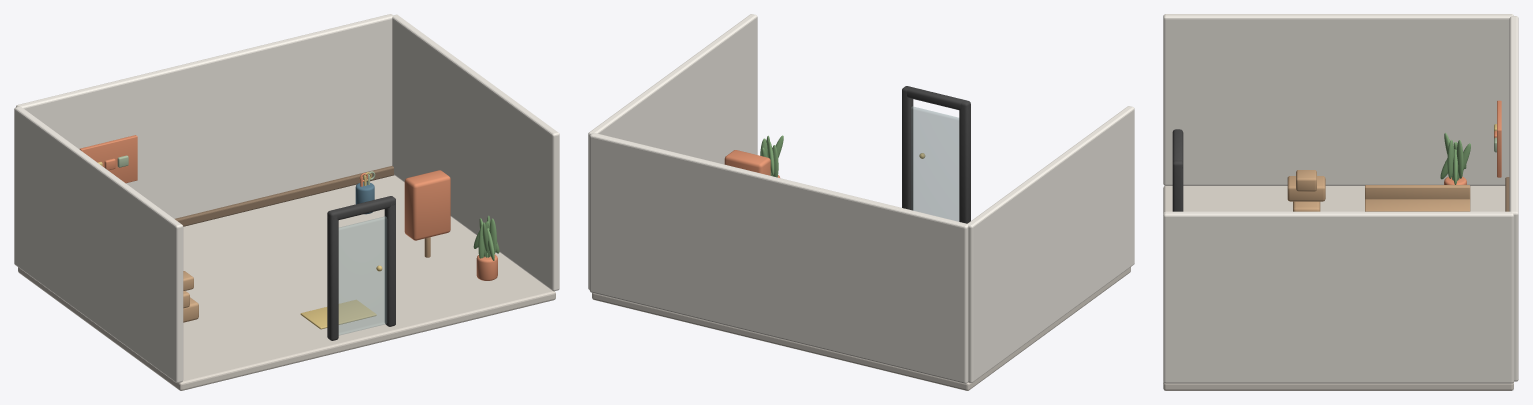
File: room-entrance.glb
The picture shows the model from 3 angles, left to right: view 1: azimuth 30°, elevation 25°; view 2: azimuth 150°, elevation 25°; view 3: azimuth 270°, elevation 25°; orthographic projection. The views are drawn at different scales.
Visible parts, largest first — view 1: room-entrance_back, room-entrance_floor, room-entrance_left, room-entrance_right, door-glass, panel.006, room-entrance_trim, frame-left.001, panel.005, frame-right.001, rug.002, frame-top.002 (+1 smaller); view 2: room-entrance_back, room-entrance_left, room-entrance_right, door-glass, room-entrance_floor, frame-left.001, frame-right.001, panel.006, frame-top.002; view 3: room-entrance_right, room-entrance_left, room-entrance_floor, room-entrance_back, back.004, seat.007, parcel-1, frame-right.001, parcel-2, frame-top.002, panel.005.
Part boxes in pixels (x1=…): room-entrance_back: x1=16, y1=14, x2=392, y2=218; room-entrance_floor: x1=18, y1=175, x2=555, y2=390; room-entrance_left: x1=14, y1=106, x2=183, y2=383; room-entrance_right: x1=392, y1=14, x2=559, y2=291; door-glass: x1=338, y1=216, x2=386, y2=335; panel.006: x1=404, y1=170, x2=450, y2=240; room-entrance_trim: x1=175, y1=166, x2=394, y2=226; frame-left.001: x1=327, y1=210, x2=338, y2=340; panel.005: x1=79, y1=135, x2=137, y2=183; frame-right.001: x1=384, y1=196, x2=395, y2=326; rug.002: x1=300, y1=299, x2=376, y2=329; frame-top.002: x1=327, y1=196, x2=395, y2=219; room-entrance_back: x1=589, y1=133, x2=968, y2=383; room-entrance_left: x1=967, y1=106, x2=1134, y2=382; room-entrance_right: x1=588, y1=14, x2=757, y2=289; door-glass: x1=911, y1=106, x2=959, y2=221; room-entrance_floor: x1=592, y1=267, x2=1130, y2=390; frame-left.001: x1=959, y1=101, x2=970, y2=223; frame-right.001: x1=902, y1=86, x2=913, y2=210; panel.006: x1=724, y1=150, x2=770, y2=175; frame-top.002: x1=902, y1=86, x2=970, y2=110; room-entrance_right: x1=1163, y1=211, x2=1513, y2=383; room-entrance_left: x1=1163, y1=14, x2=1513, y2=185; room-entrance_floor: x1=1163, y1=186, x2=1513, y2=390; room-entrance_back: x1=1509, y1=16, x2=1518, y2=381; back.004: x1=1365, y1=185, x2=1470, y2=199; seat.007: x1=1365, y1=199, x2=1470, y2=211; parcel-1: x1=1287, y1=176, x2=1325, y2=201; frame-right.001: x1=1172, y1=160, x2=1183, y2=211; parcel-2: x1=1296, y1=170, x2=1316, y2=191; frame-top.002: x1=1172, y1=129, x2=1183, y2=169; panel.005: x1=1497, y1=100, x2=1501, y2=177.
Size of the model in its own units: 8.16 by 3.38 by 6.08.
